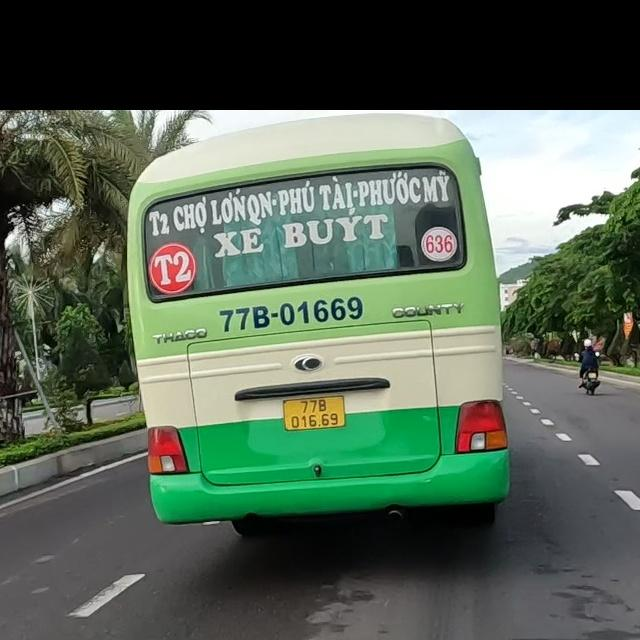license-plate: (283, 396, 346, 432)
